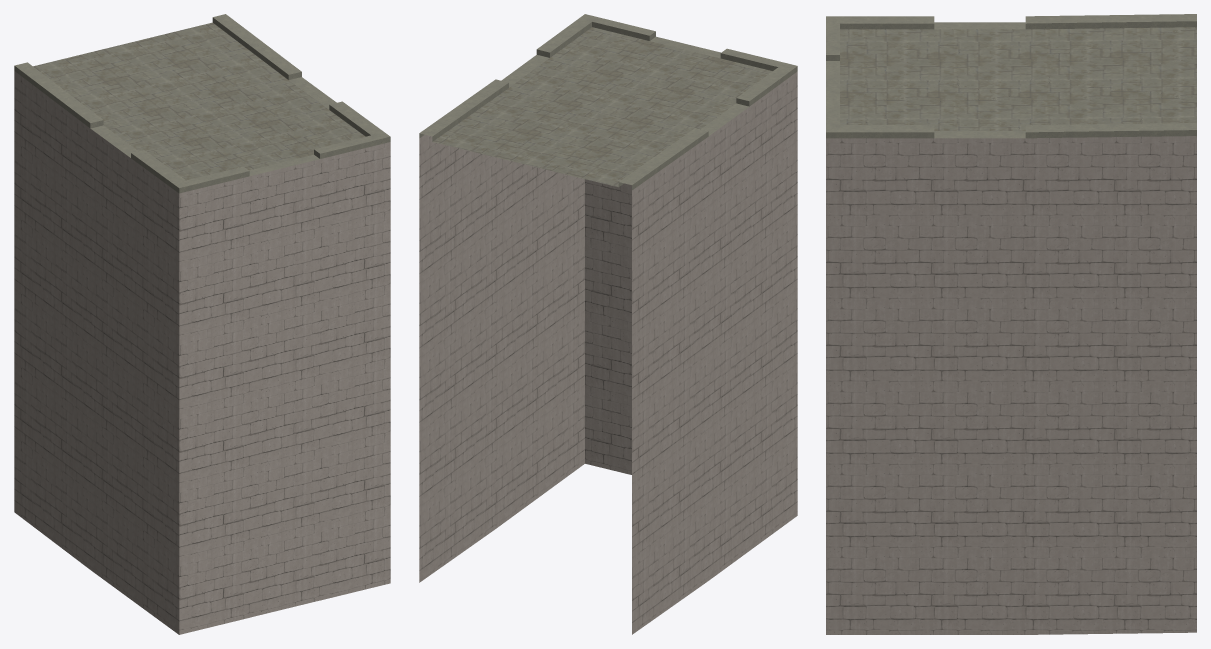
The model's file is AD_Ground_B_01.fbx.
3 views of the same model, side by side, from view 1: azimuth 30°, elevation 25°; view 2: azimuth 150°, elevation 25°; view 3: azimuth 270°, elevation 25° (orthographic). The views are drawn at different scales.
Visible parts, largest first — view 1: AD_Ground_B_01; view 2: AD_Ground_B_01; view 3: AD_Ground_B_01.
Boxes of the visible parts, box(x1,y1,x2,y2) form: AD_Ground_B_01: box(14, 14, 390, 634); AD_Ground_B_01: box(419, 14, 797, 634); AD_Ground_B_01: box(826, 14, 1196, 634).
Size of the model in its own units: 3000 by 6086 by 4050.
3 materials, 3 textured.
